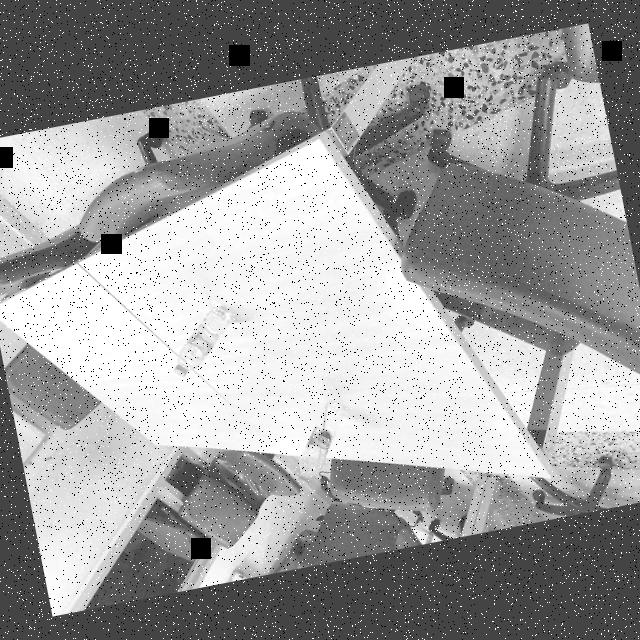plastic_bottle: (280, 398, 360, 488), (158, 300, 246, 380)
plastic_bottle_cap: (171, 362, 189, 379), (296, 474, 312, 488)
straw: (292, 404, 342, 478)
